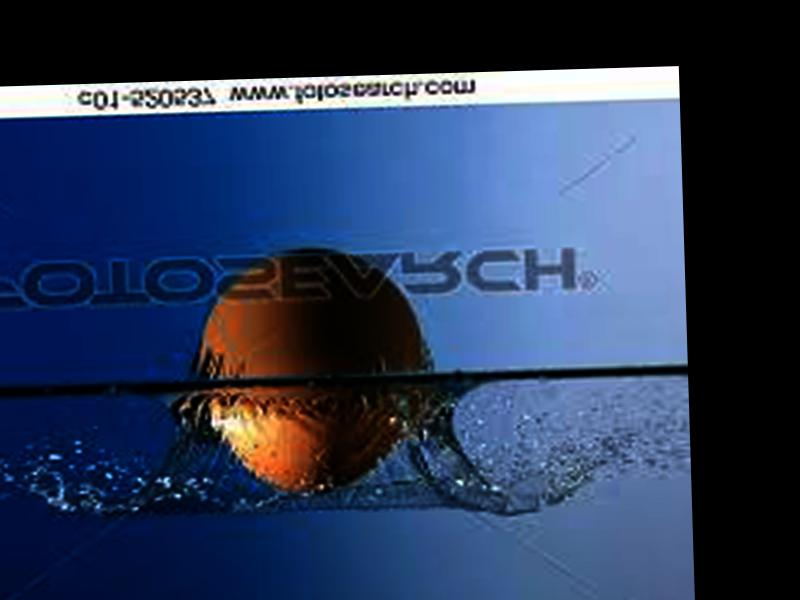Eggs: (196, 249, 428, 498)
